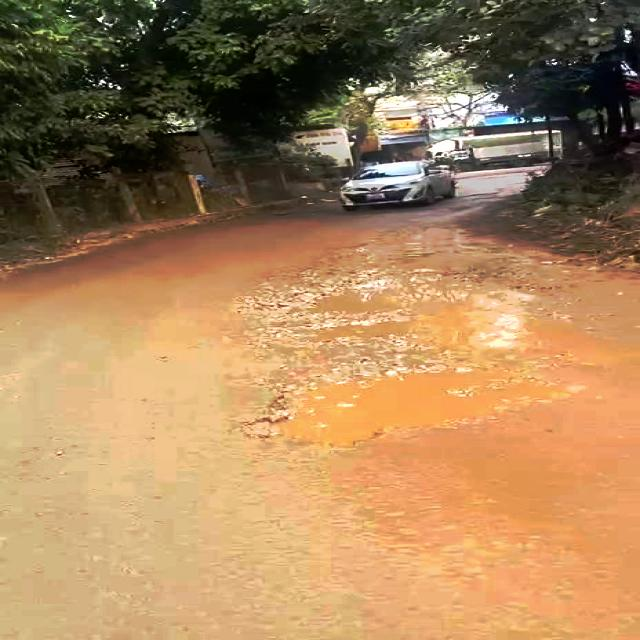pothole: (255, 363, 577, 448), (250, 268, 539, 358)
